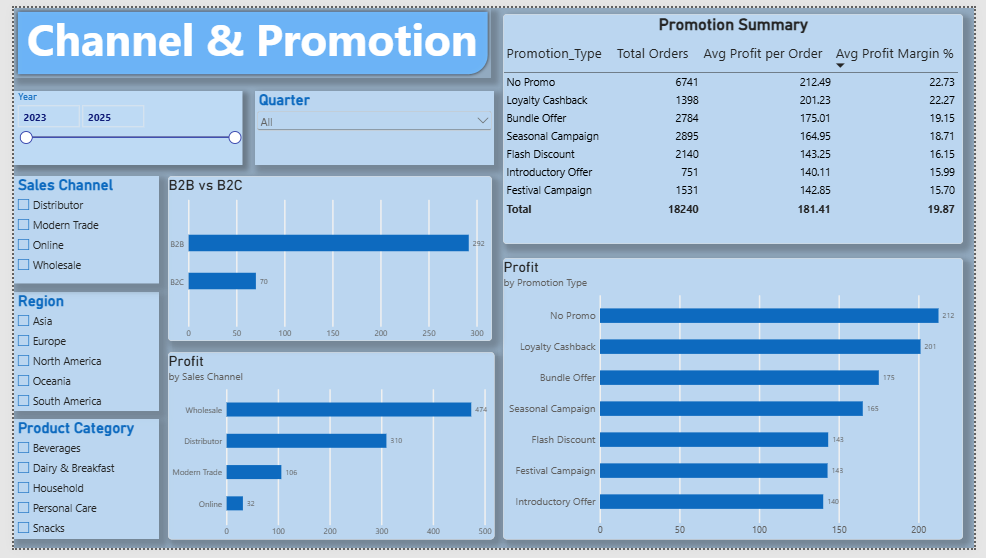

The dashboard page shown, as its layout file describes it:
{"tool":"powerbi","page":{"name":"Channel & Promotion","canvas":[1920,1080],"ordinal":1},"visuals":[{"type":"slicer","fields":{"Values":["fmcg_orders.Year"]},"box":[0,165,457.3,148.2],"z":0},{"type":"slicer","fields":{"Values":["fmcg_orders.Quarter"]},"box":[482.5,165,477.5,147.5],"z":1000},{"type":"slicer","fields":{"Values":["fmcg_orders.Region"]},"box":[0,567.5,290,237.5],"z":2000},{"type":"slicer","fields":{"Values":["fmcg_orders.Product_Category"]},"box":[0,822.5,290,240],"z":3000},{"type":"slicer","fields":{"Values":["fmcg_orders.Sales_Channel"]},"box":[0,335,290,215],"z":4000},{"type":"shape","box":[0,0,955,140],"z":5000},{"type":"textbox","box":[25,0,915,140],"z":6000},{"type":"clusteredBarChart","title":"Profit","fields":{"Category":["fmcg_orders.Sales_Channel"],"Y":["_Measures.Avg Profit per Order"]},"box":[307.5,687.5,652.5,375],"z":7000},{"type":"clusteredBarChart","title":"Profit","fields":{"Category":["fmcg_orders.Promotion_Type"],"Y":["_Measures.Avg Profit per Order"]},"box":[977.5,500,920,562.5],"z":8000},{"type":"clusteredBarChart","title":"B2B vs B2C","fields":{"Category":["fmcg_orders.Customer_Type"],"Y":["_Measures.Avg Profit per Order"]},"box":[307.5,335,647.5,330],"z":9000},{"type":"tableEx","title":"Promotion Summary","fields":{"Values":["fmcg_orders.Promotion_Type","_Measures.Total Orders","_Measures.Avg Profit per Order","_Measures.Avg Profit Margin %"]},"box":[977.5,12.5,920,460],"z":10000}]}

Visuals, with their boxes in screenshot pixels (x1, y1, x2, y2), scaled from the page's 1920x1080 canvas onto the 986x558 screenshot:
slicer - fmcg_orders.Year: box(0, 85, 235, 162)
slicer - fmcg_orders.Quarter: box(248, 85, 493, 161)
slicer - fmcg_orders.Region: box(0, 293, 149, 416)
slicer - fmcg_orders.Product_Category: box(0, 425, 149, 549)
slicer - fmcg_orders.Sales_Channel: box(0, 173, 149, 284)
shape: box(0, 0, 490, 72)
textbox: box(13, 0, 483, 72)
"Profit" clusteredBarChart: box(158, 355, 493, 549)
"Profit" clusteredBarChart: box(502, 258, 974, 549)
"B2B vs B2C" clusteredBarChart: box(158, 173, 490, 344)
"Promotion Summary" tableEx: box(502, 6, 974, 244)
